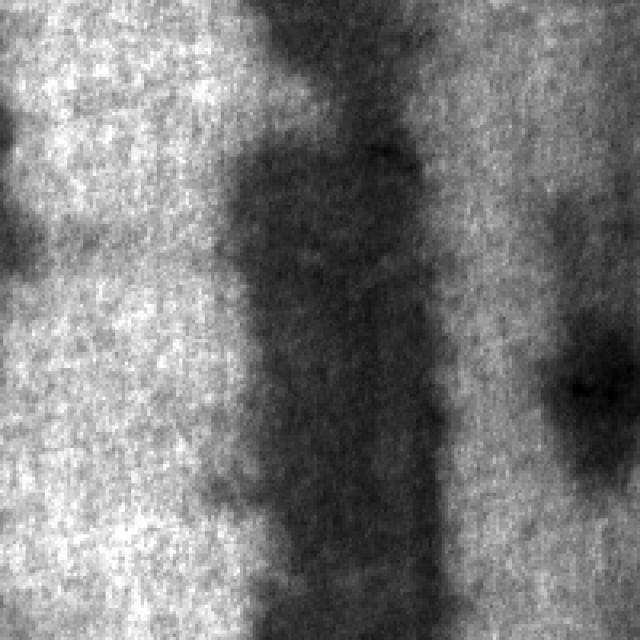patches: (205, 90, 454, 634), (214, 0, 442, 106), (534, 288, 637, 499), (0, 170, 45, 282)
